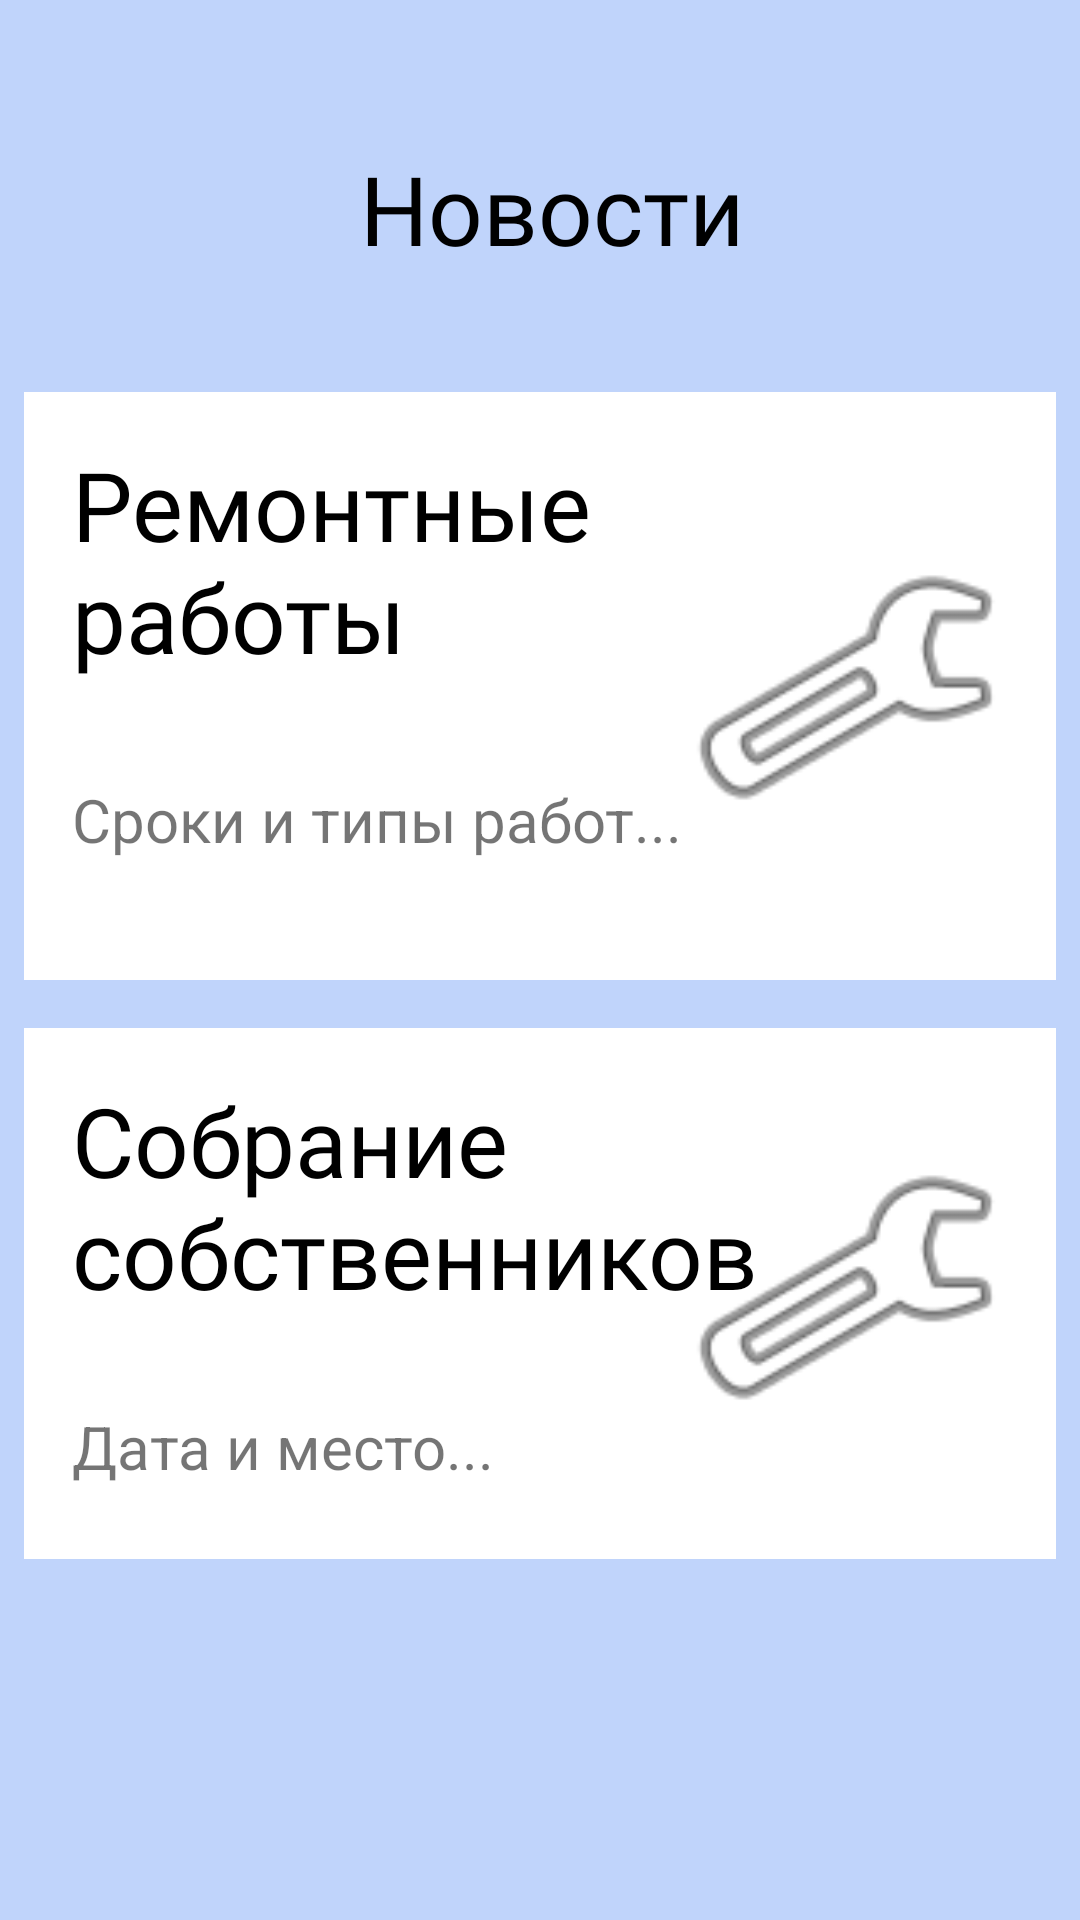

Icon click points for this 1080x1920 phone screenshot, format (x=x, y=y):
manage: (x=846, y=687)
